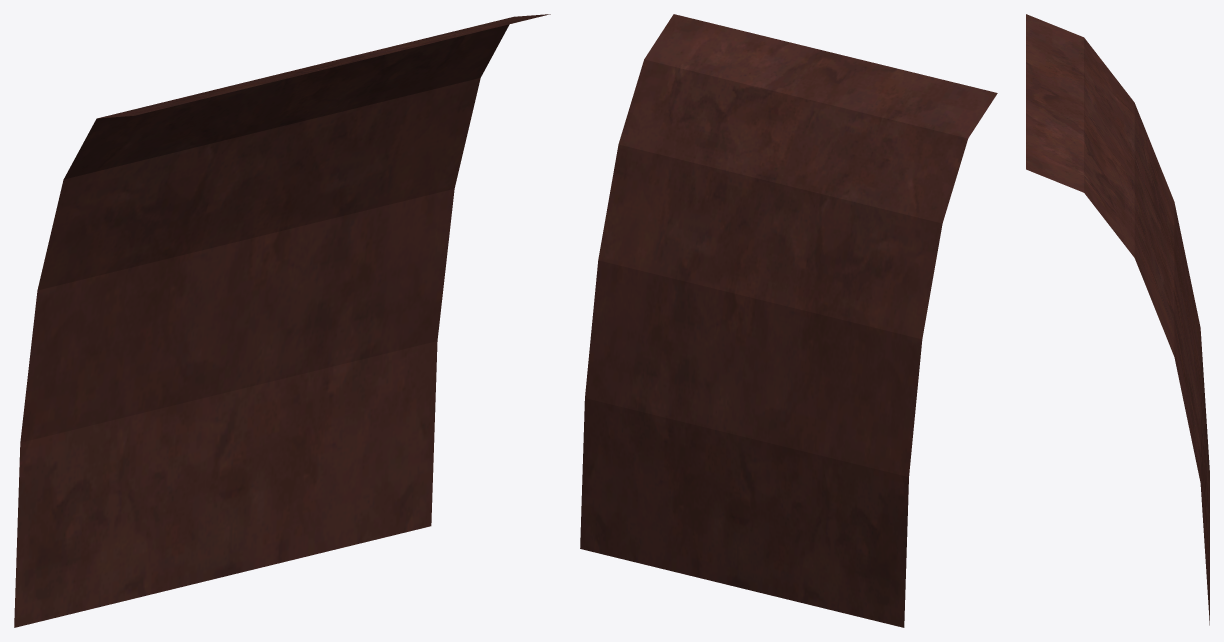
The model's file is lava_base_straight_01.fbx.
The picture shows the model from 3 angles, left to right: view 1: azimuth 30°, elevation 25°; view 2: azimuth 150°, elevation 25°; view 3: azimuth 270°, elevation 25°; orthographic projection. The views are drawn at different scales.
Visible parts, largest first — view 1: obj0.139; view 2: obj0.139; view 3: obj0.139.
Boxes of the visible parts, box(x1,y1,x2,y2) form: obj0.139: box(14, 14, 550, 627); obj0.139: box(580, 14, 997, 627); obj0.139: box(1026, 14, 1209, 625).
Bounding box in the file's own units: 4 × 5.5 × 2.
